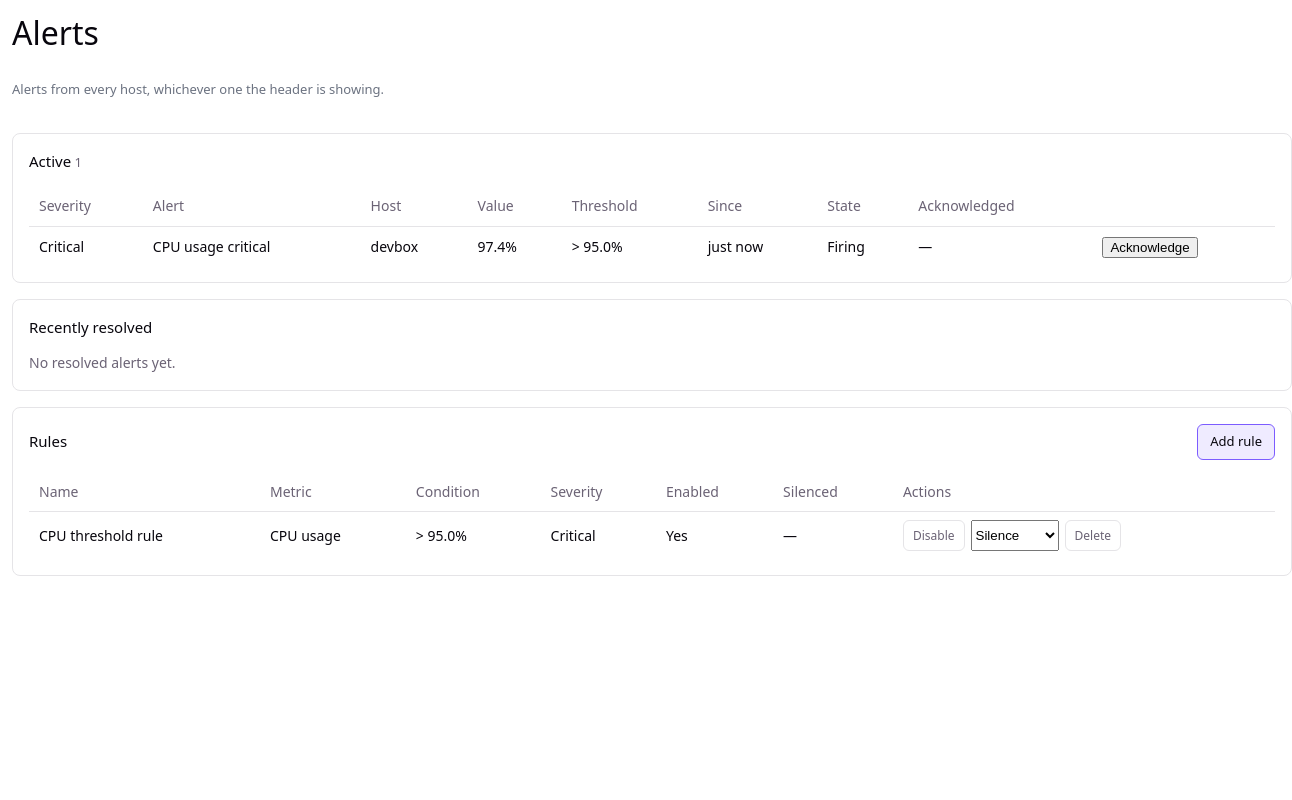
Test: acknowledging an alert › reports a failure instead of pretending it worked
Click the button "Acknowledge": coordinates (1150, 247) [1102, 237, 1198, 258]
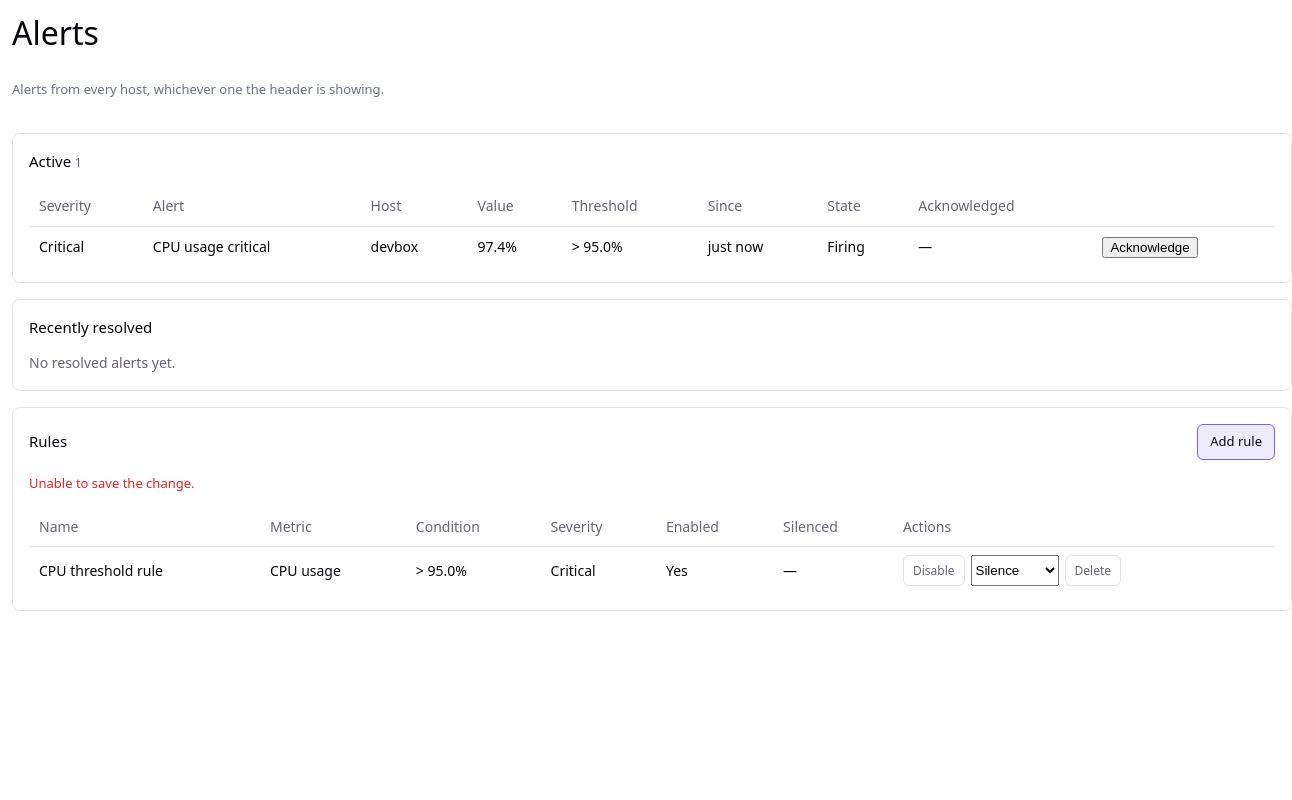
Expected: the message "Unable to save the change." is shown, [29, 474, 194, 492]
